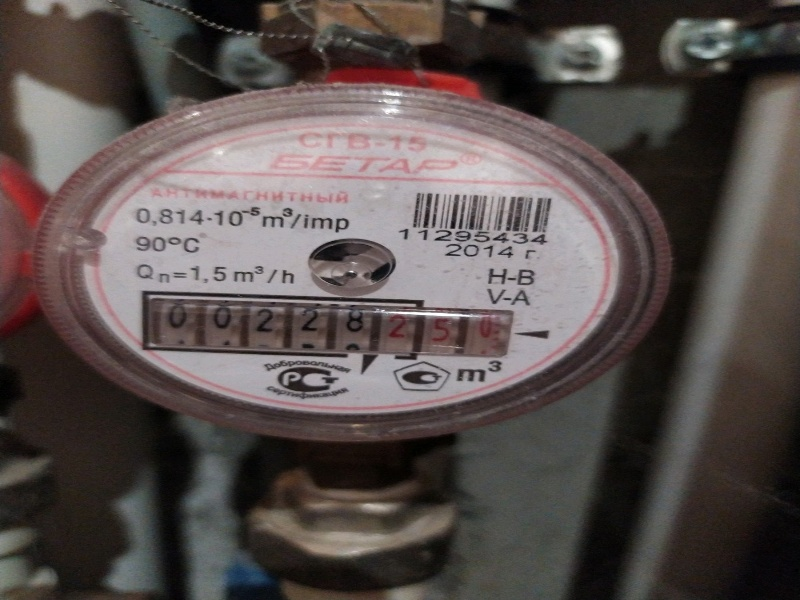dial: (139, 302, 501, 356)
